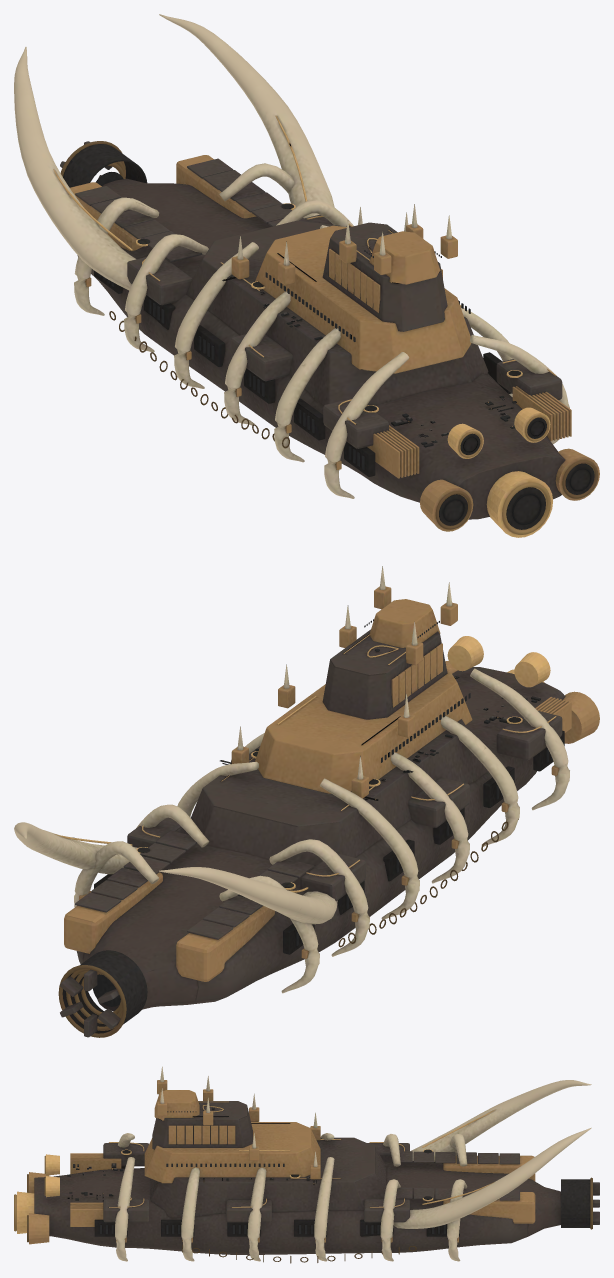
Rendered from cinder_cathedral_hero.glb.
3 views of the same model, one above another, from view 1: azimuth 30°, elevation 25°; view 2: azimuth 150°, elevation 25°; view 3: azimuth 270°, elevation 25° (orthographic). The views are drawn at different scales.
Parts seen in each view (by area): view 1: HullBaked; view 2: HullBaked; view 3: HullBaked.
Part boxes in pixels (left/top/right/bottom): HullBaked: left=14, top=14, right=599, bottom=537; HullBaked: left=14, top=566, right=599, bottom=1037; HullBaked: left=14, top=1066, right=599, bottom=1263.
Size of the model in its own units: 39.58 by 34.29 by 115.
1 material, 1 textured.
